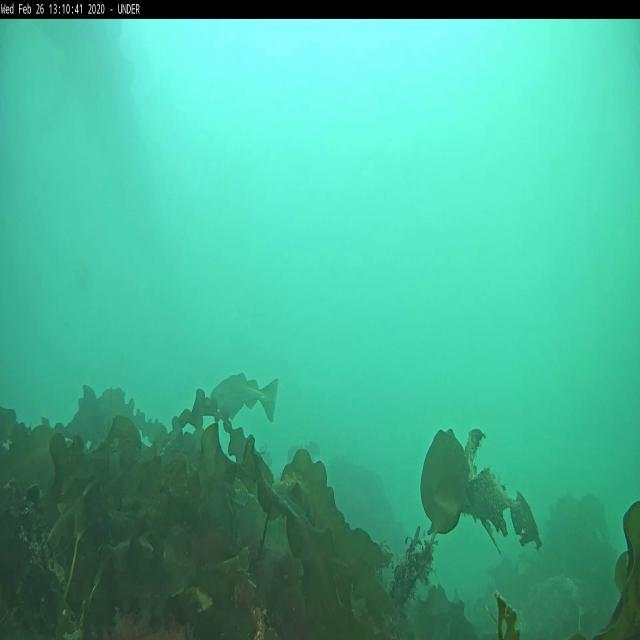fish: (211, 377, 279, 421)
